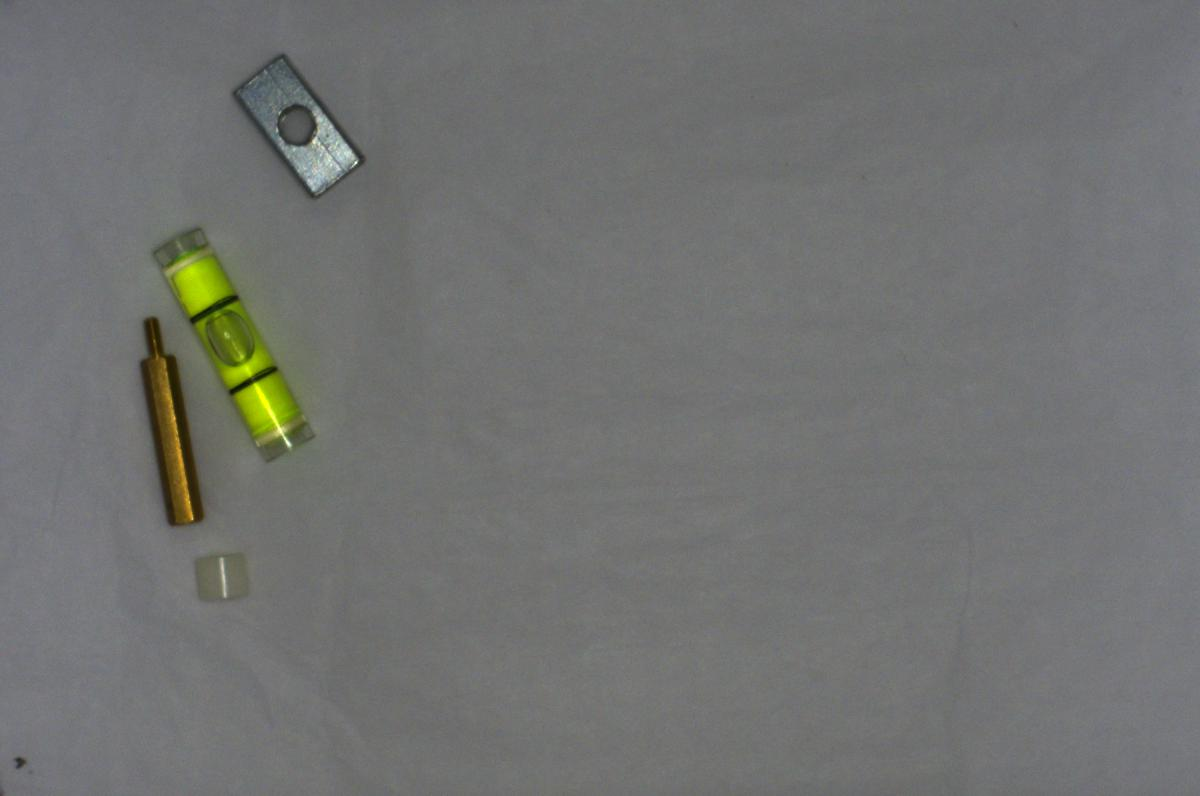Hexagon pillar: (130, 310, 213, 538)
Horizontal bubble: (148, 219, 315, 463)
Plastic cushion pillar: (193, 545, 254, 609)
Rectangular nut: (233, 49, 361, 195)
